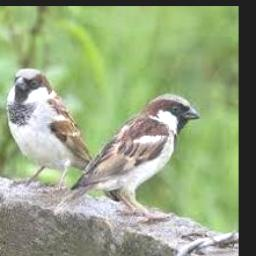Sparrow: (51, 93, 200, 218), (7, 68, 124, 201)
